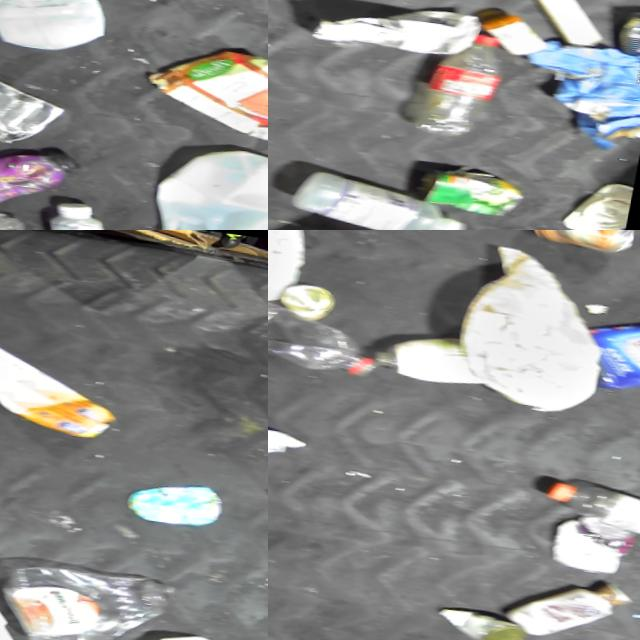can: (0, 67, 79, 148), (548, 514, 640, 575), (438, 603, 531, 640), (534, 230, 640, 253)
milk_jug: (153, 140, 268, 230), (268, 230, 318, 312)
non_white_jug: (0, 313, 131, 440)
plastic_bottle: (424, 25, 512, 138), (268, 301, 395, 378), (544, 477, 640, 539)
